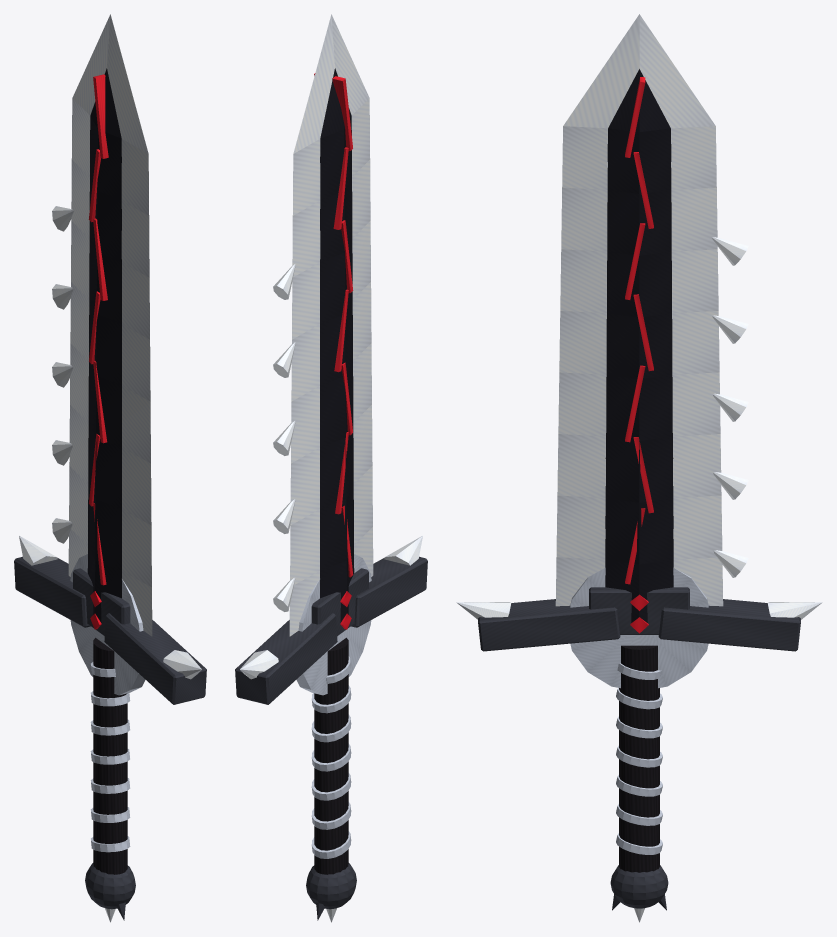
File: RoyalMourning.obj
3 renders of one model, left to right at view 1: azimuth 30°, elevation 25°; view 2: azimuth 150°, elevation 25°; view 3: azimuth 270°, elevation 25°, orthographic.
Visible parts, largest first — view 1: RoyalMourning; view 2: RoyalMourning; view 3: RoyalMourning.
Part boxes in pixels (box(x1,y1,x2,y2)): RoyalMourning: box(14, 14, 206, 922); RoyalMourning: box(235, 14, 427, 922); RoyalMourning: box(456, 14, 822, 922).
Bounding box in the file's own units: 0.4401 × 9.32 × 3.41.
Materials: 1 (1 with a texture image).
